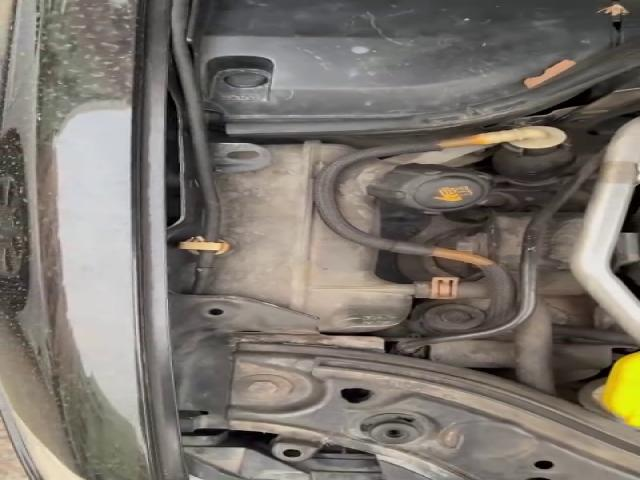antifreeze_tank: (212, 142, 411, 331), (338, 159, 492, 234)
